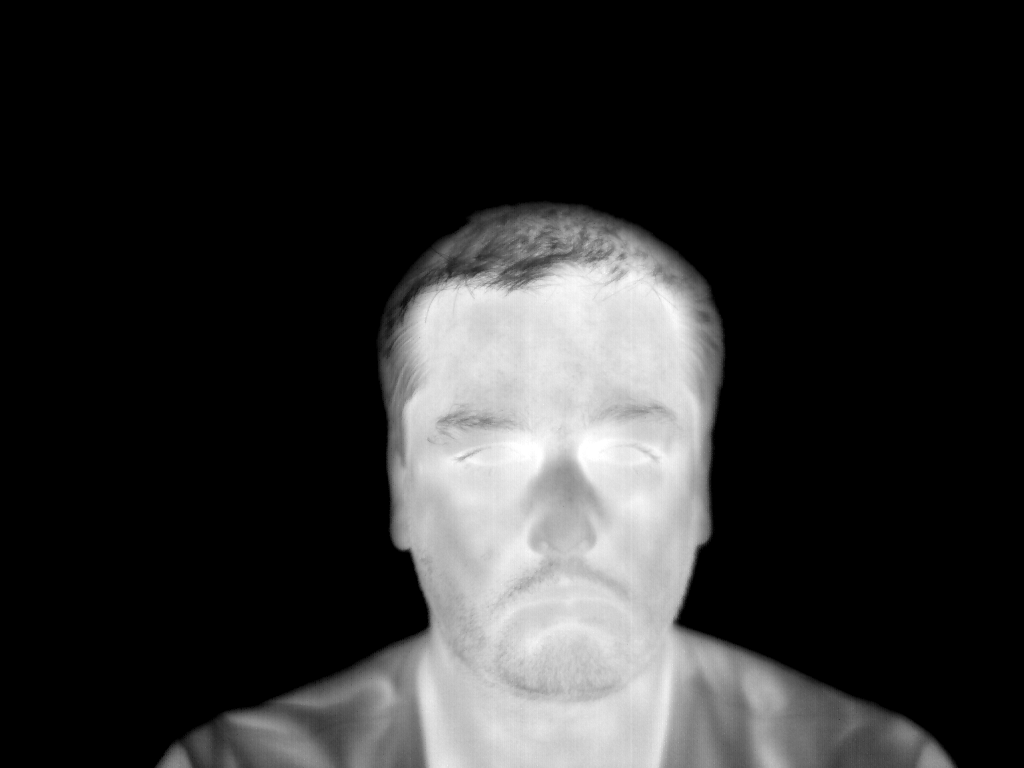face: (417, 288, 693, 692)
